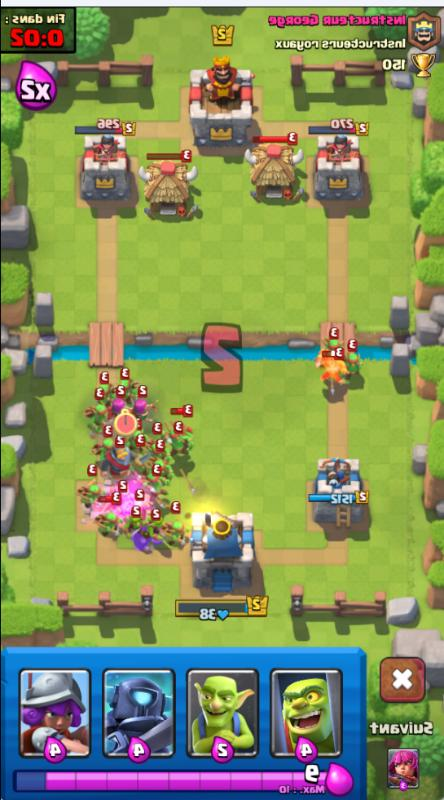archere: (130, 395, 156, 429), (111, 396, 128, 424)
chevalier: (99, 442, 145, 483)
gobelin: (122, 511, 146, 547), (146, 513, 166, 545)
gobelin_lances: (317, 353, 346, 391), (76, 480, 102, 515), (317, 337, 348, 363), (85, 400, 108, 433), (166, 431, 195, 456), (167, 517, 188, 550), (97, 510, 119, 541), (145, 472, 171, 498), (150, 457, 177, 481), (147, 438, 171, 465), (91, 437, 115, 460), (344, 352, 363, 381), (130, 429, 149, 456), (175, 421, 199, 441), (97, 380, 114, 407), (119, 377, 136, 399)
